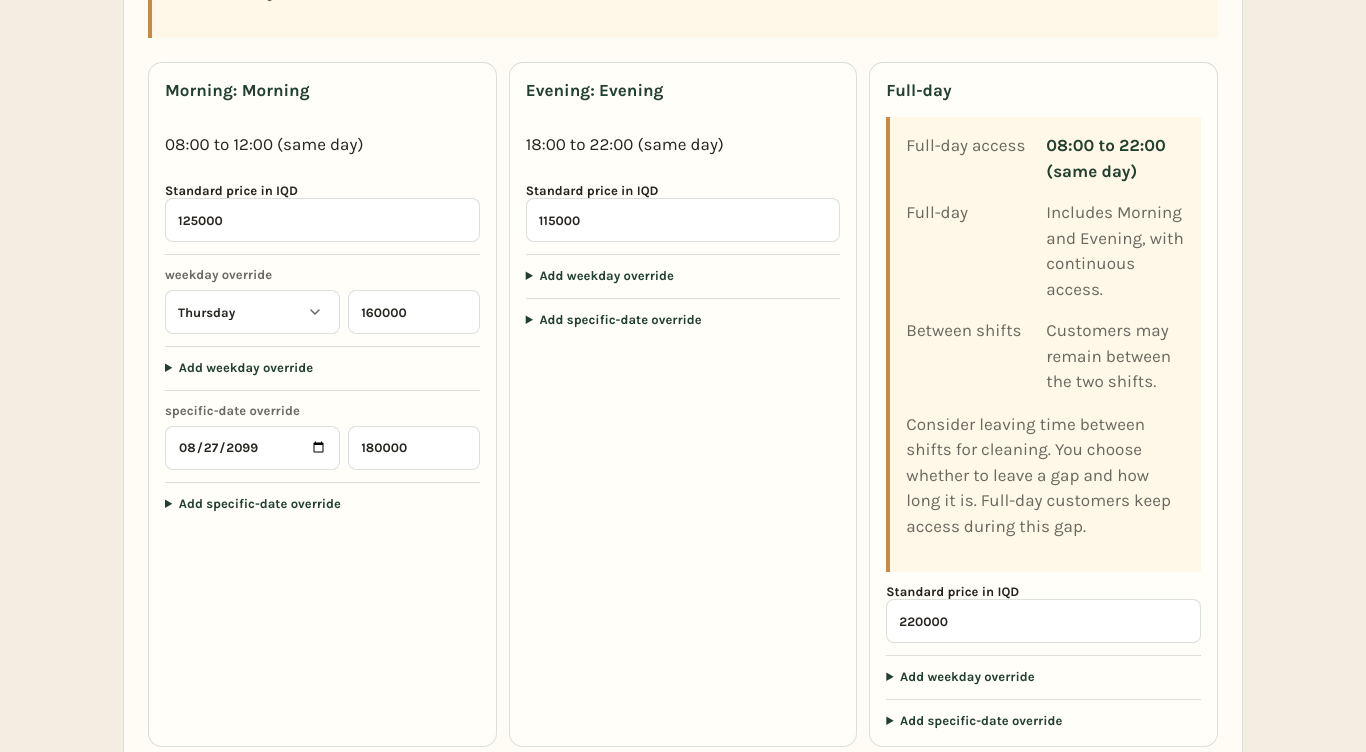
it: Cottage Pricing and Availability editor › hides blank override rows behind explicit add controls
(page scrolled)
Expected: the text "weekday override" is shown once, 165,267 -> 272,282
Expected: the text "specific-date override" is shown once, 165,403 -> 300,418
Click the heading named "Add weekday override for Morning: Morning" at (246, 368), box 179,360 -> 313,375
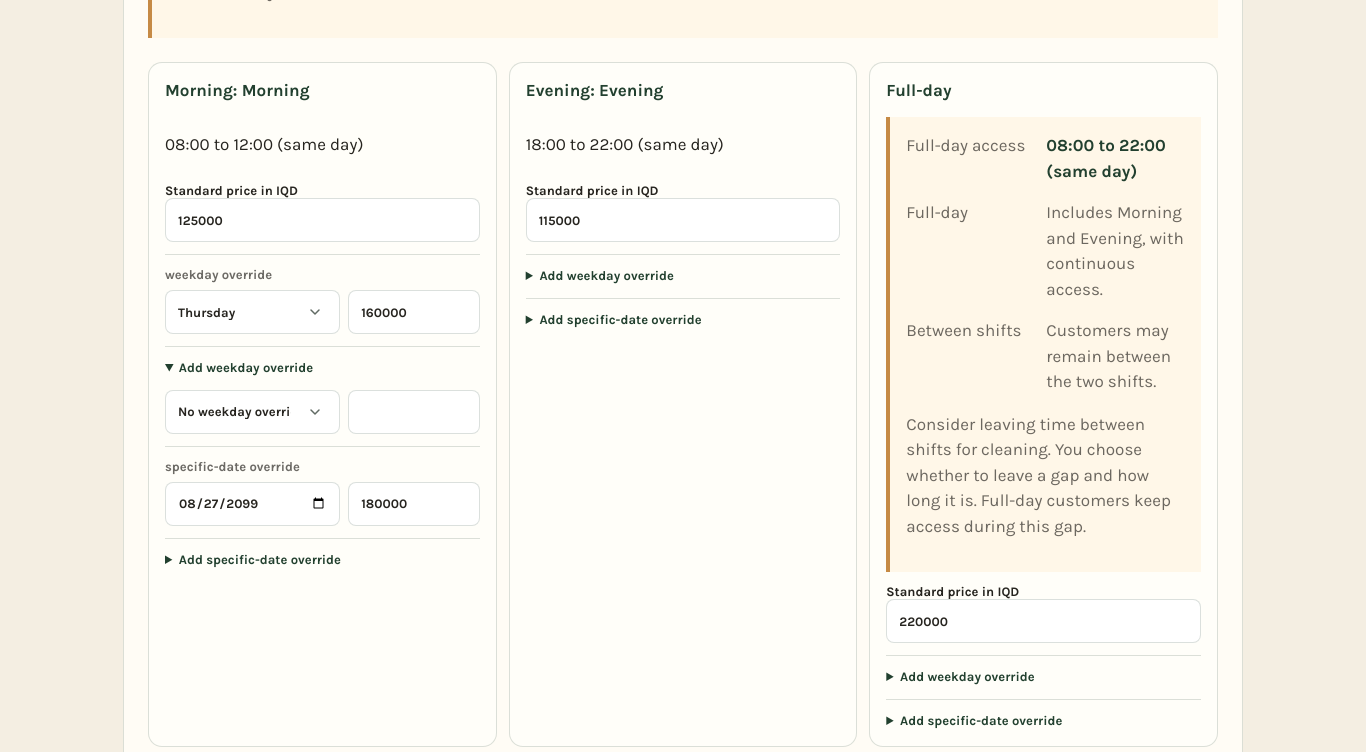
Result: the dropdown named "Morning: Morning new weekday override" is shown at 165,390 -> 340,434
